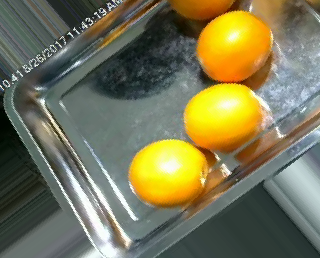Orange: (194, 9, 273, 83), (129, 139, 209, 208), (183, 83, 263, 152)
